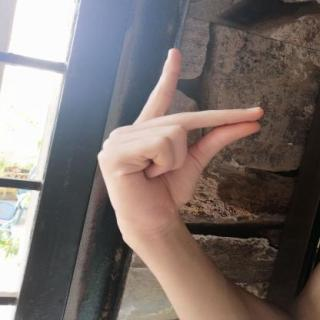TAA: (82, 38, 272, 246)
